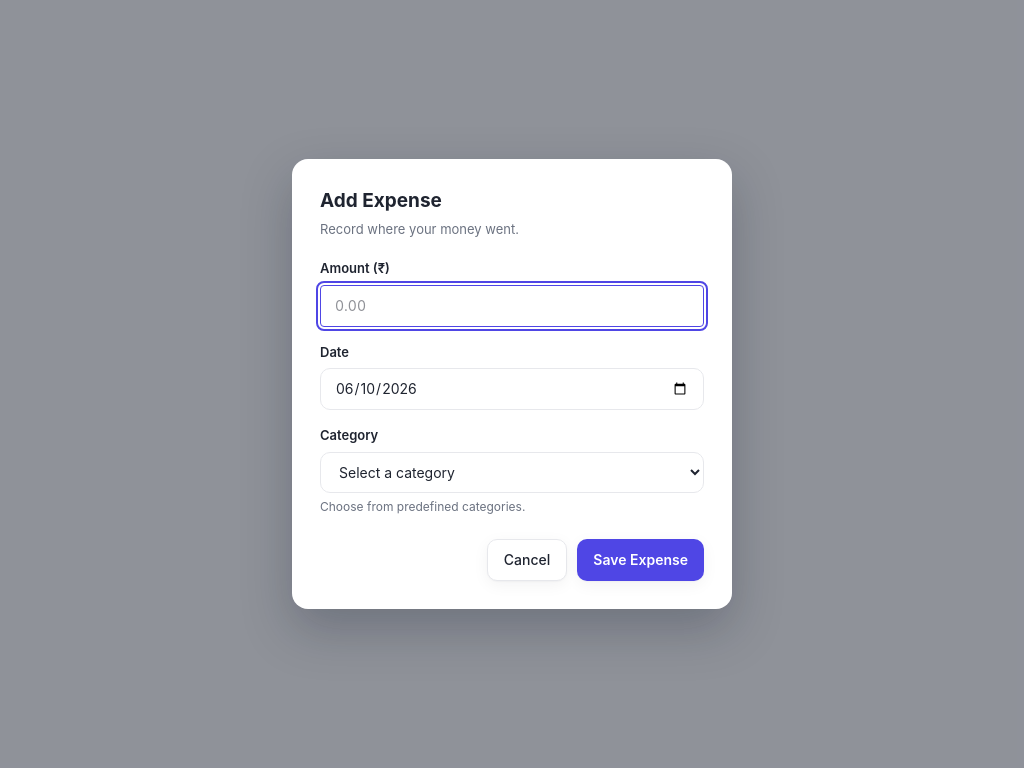
it: ExpenseModal (P7-2) › rejects a zero or negative amount (must be > 0)
Type "0" into the field labelled "Amount (₹)". click: [512, 306]
box: top-left (320, 285), bottom-right (704, 327)
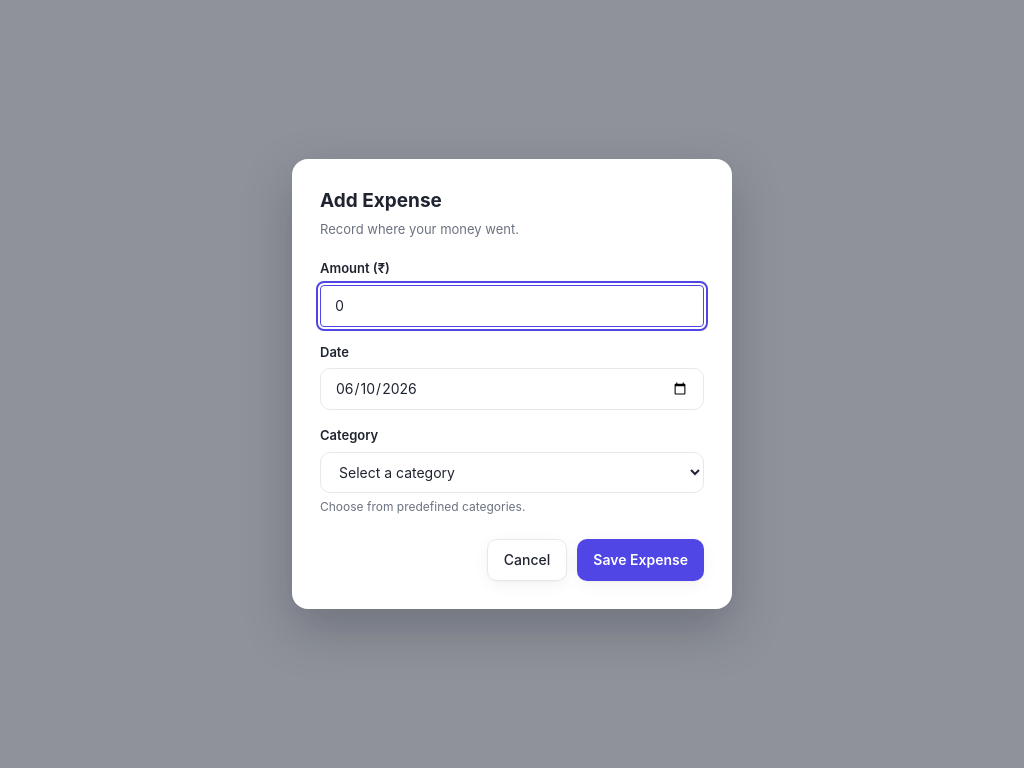
Select "Food" in the dropdown labelled "Category". click: [512, 472]
box: top-left (320, 452), bottom-right (704, 493)
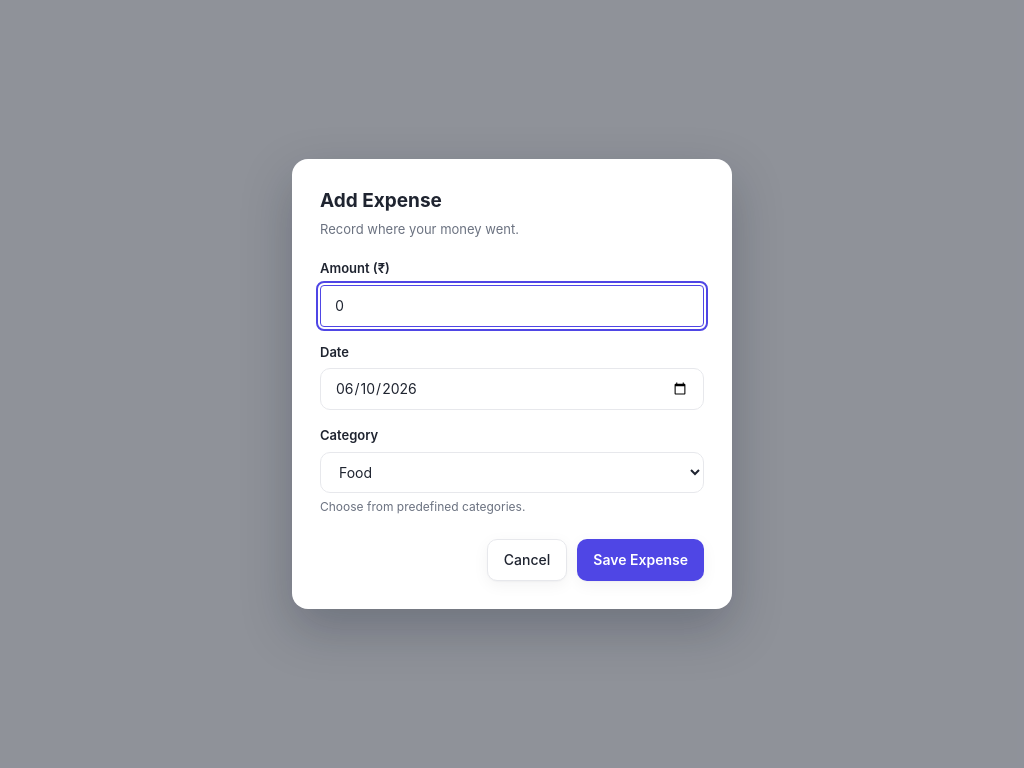
Click the button "Save Expense". click: [641, 560]
box: top-left (577, 539), bottom-right (704, 581)
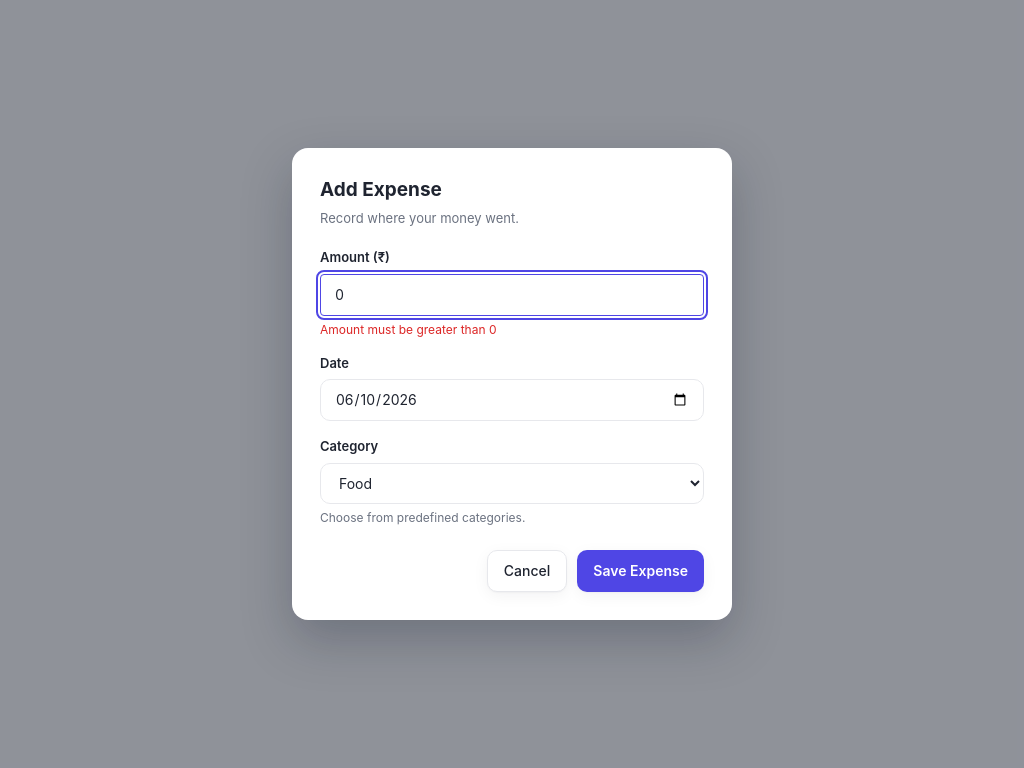
Now the text "Amount must be greater than 0" is shown, box top-left (320, 322), bottom-right (496, 337)
